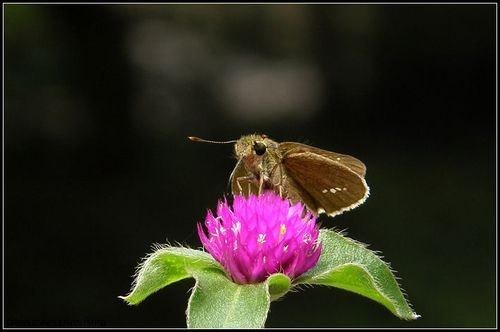Hesperiidae: (186, 125, 373, 222)
